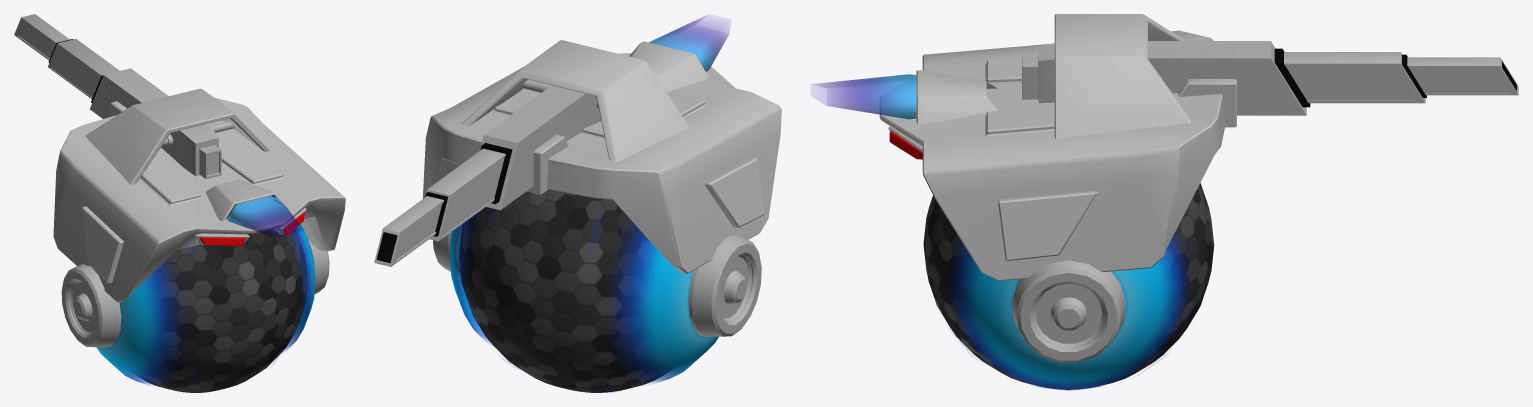
File: primary-tank.glb
The picture shows the model from 3 angles, left to right: view 1: azimuth 30°, elevation 25°; view 2: azimuth 150°, elevation 25°; view 3: azimuth 270°, elevation 25°; orthographic projection. The views are drawn at different scales.
Parts seen in each view (by area): view 1: Body, Ball, Cube, magnets, Cylinder, thruster, tails; view 2: Body, Ball, Cube, magnets, Cylinder, thruster, Cube.001; view 3: Body, Cube, magnets, Ball, Cylinder, thruster, Cube.001.
Boxes of the visible parts, x1,y1,x2,y2 form: Body: (53, 88, 345, 302); Ball: (136, 229, 307, 392); Cube: (14, 14, 234, 178); magnets: (96, 224, 315, 386); Cylinder: (61, 227, 329, 347); thruster: (227, 196, 303, 237); tails: (200, 212, 304, 246); Body: (422, 40, 781, 273); Ball: (459, 189, 668, 392); Cube: (374, 79, 601, 266); magnets: (450, 210, 718, 391); Cylinder: (433, 232, 761, 336); thruster: (649, 15, 730, 71); Cube.001: (425, 143, 512, 236); Body: (879, 14, 1236, 280); Cube: (1022, 41, 1518, 115); magnets: (950, 232, 1188, 390); Ball: (923, 183, 1214, 389); Cylinder: (1011, 260, 1125, 362); thruster: (811, 74, 916, 119); Cube.001: (1274, 48, 1426, 107).
Size of the model in its own units: 2.41 by 2.59 by 4.87.
8 materials, 5 textured.
